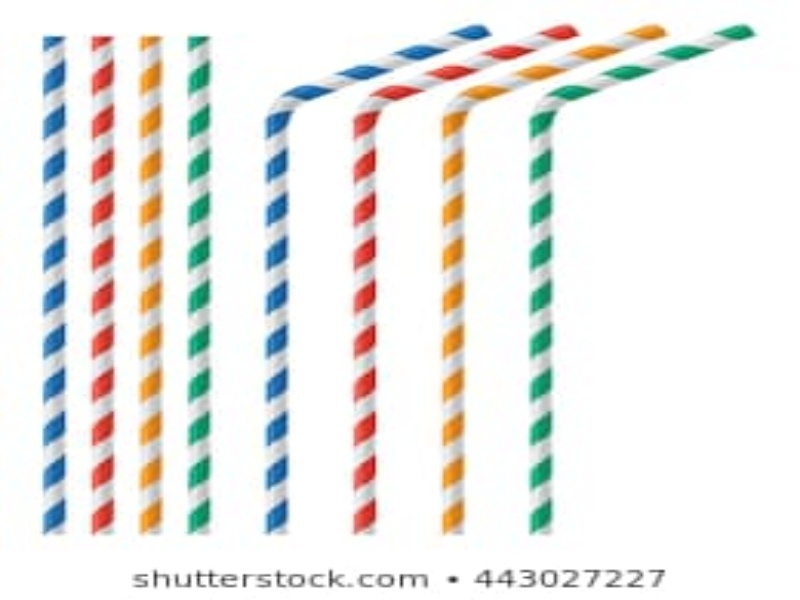straw: (258, 19, 493, 540), (349, 23, 584, 544), (435, 18, 670, 539), (529, 19, 764, 540), (32, 33, 78, 535), (81, 33, 120, 537), (132, 34, 171, 538), (181, 34, 220, 538)
